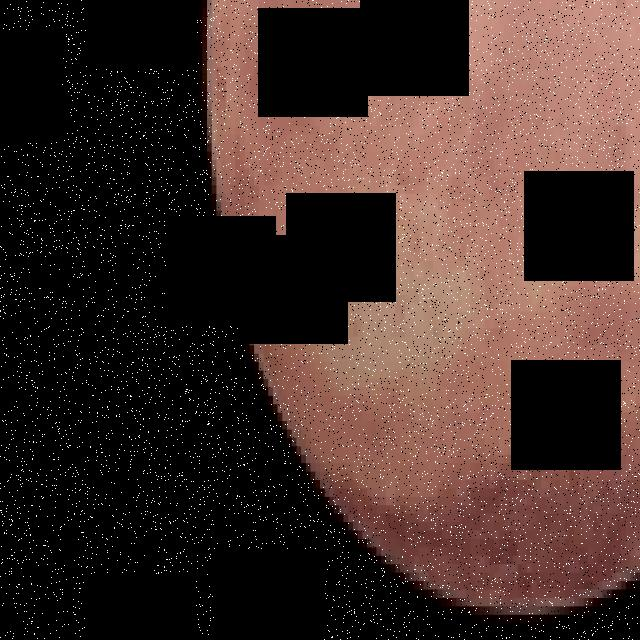Mars: (207, 0, 640, 606)
